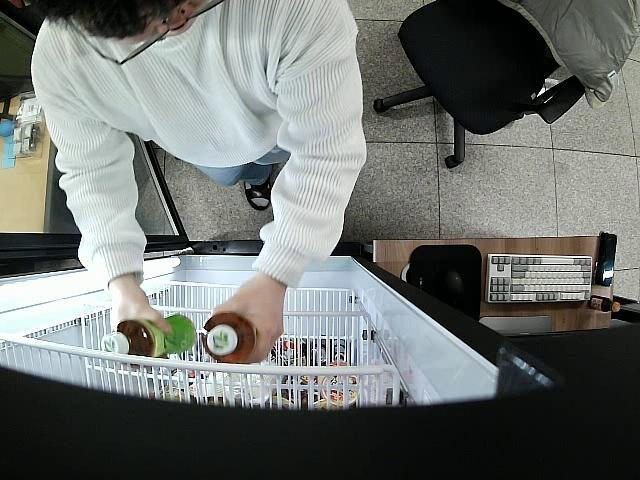19_17cha: (101, 311, 198, 358), (200, 311, 256, 363)
